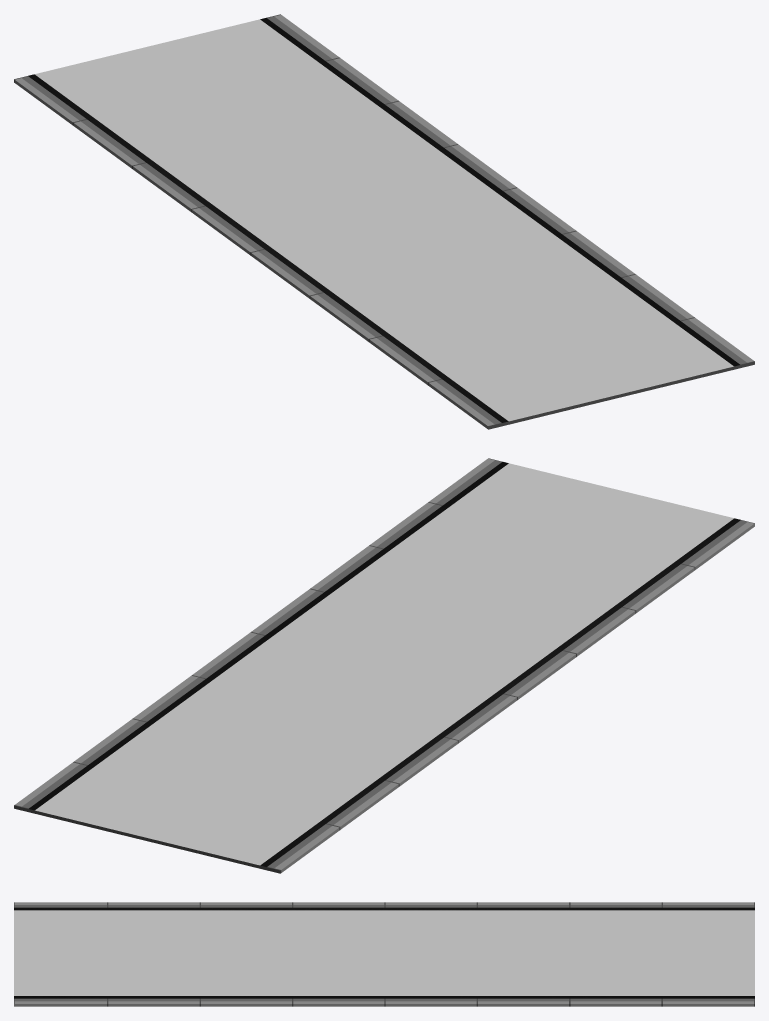
Rendered from Road1.fbx.
The picture shows the model from 3 angles, top to bottom: view 1: azimuth 30°, elevation 25°; view 2: azimuth 150°, elevation 25°; view 3: azimuth 270°, elevation 25°; orthographic projection. The views are drawn at different scales.
Visible parts, largest first — view 1: Cube.004; view 2: Cube.004; view 3: Cube.004.
Part boxes in pixels (bbox=[...]): Cube.004: bbox=[14, 14, 754, 429]; Cube.004: bbox=[14, 458, 754, 873]; Cube.004: bbox=[14, 902, 754, 1006].
Bounding box in the file's own units: 431 × 5 × 1329.
